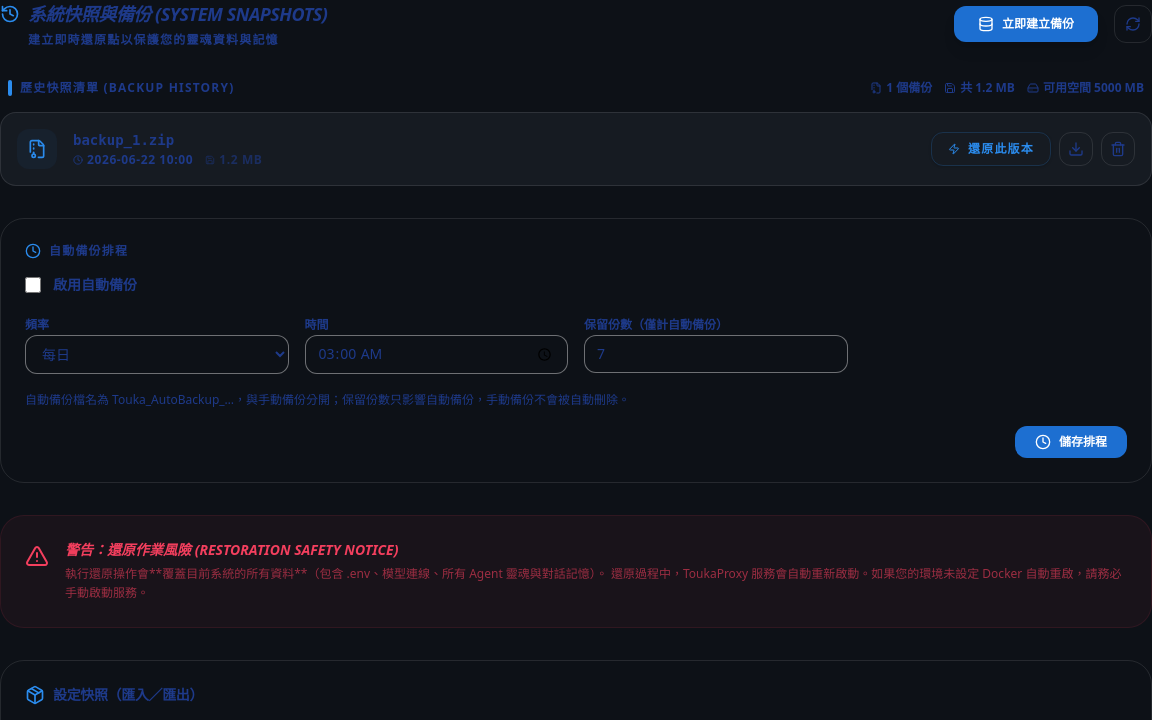
Test case: EnvSettings 軌1 Phase 1 › P1a: 還原確認鈕在未輸入密碼前停用、輸入後啟用
Click the button "還原此版本" at (991,149), box [931, 132, 1051, 166]
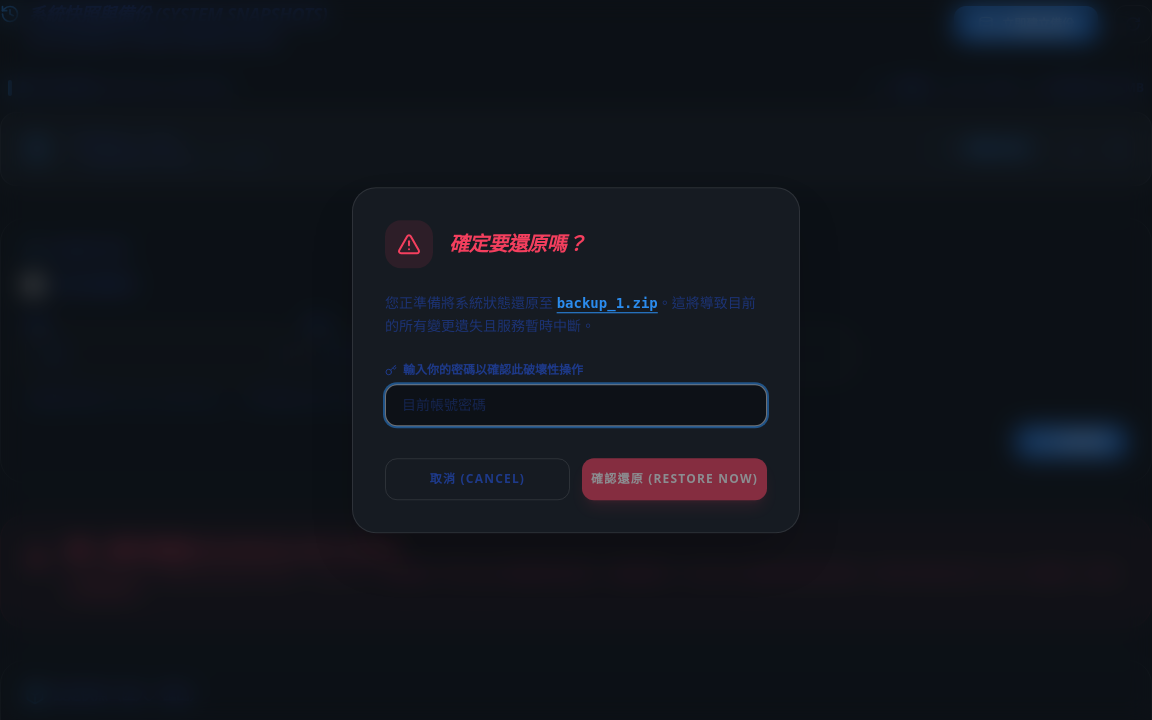
expect the button "確認還原 (Restore Now)" is disabled: met, box [582, 458, 767, 500]
Type "pw" into the password field with placeholder "目前帳號密碼" at (576,405), box [385, 384, 767, 426]
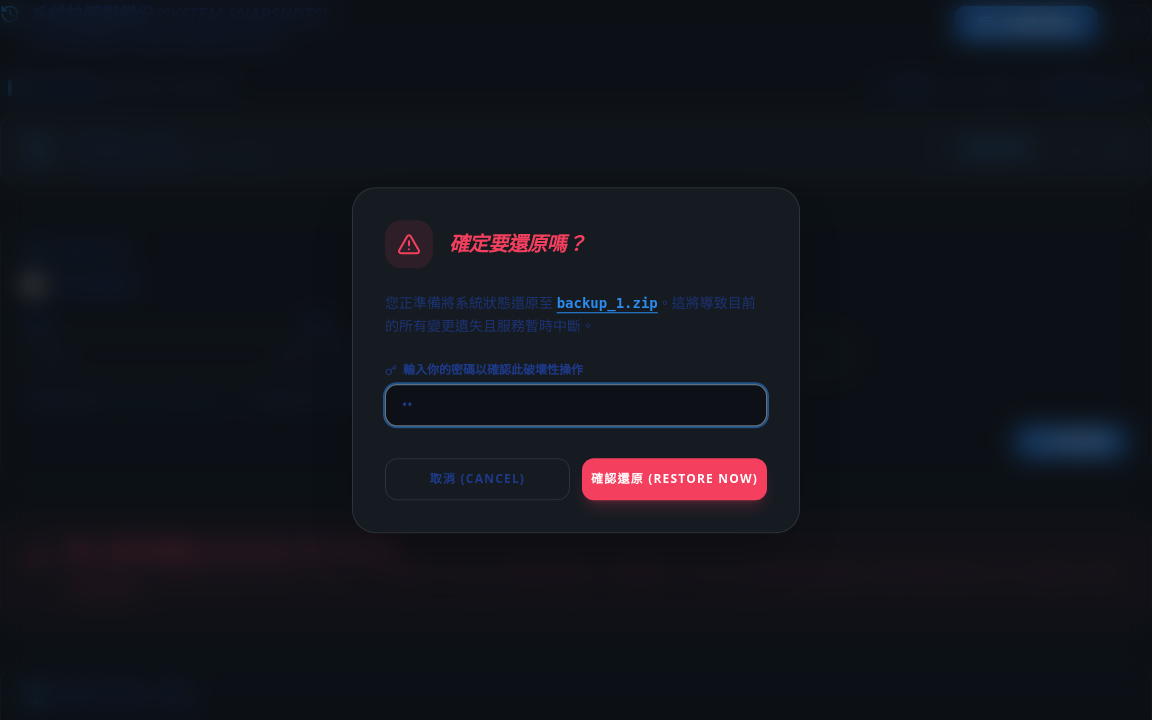
expect the button "確認還原 (Restore Now)" is enabled: met, box [582, 458, 767, 500]
